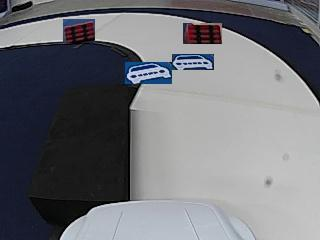block: (37, 88, 131, 202)
